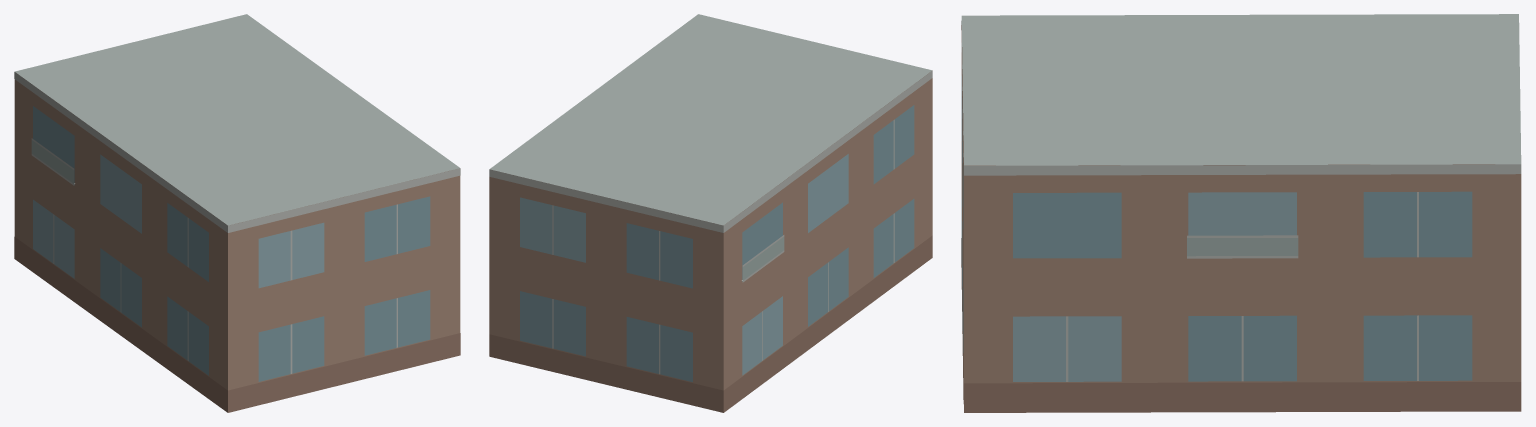
Rendered from survey-upis-32686051.glb.
3 views of the same model, side by side, from view 1: azimuth 30°, elevation 25°; view 2: azimuth 150°, elevation 25°; view 3: azimuth 270°, elevation 25° (orthographic). The views are drawn at different scales.
Visible parts, largest first — view 1: survey-upis-32686051.tmp; view 2: survey-upis-32686051.tmp; view 3: survey-upis-32686051.tmp.
Boxes of the visible parts, left/top/right/bottom form: survey-upis-32686051.tmp: left=14, top=14, right=460, bottom=412; survey-upis-32686051.tmp: left=489, top=14, right=932, bottom=412; survey-upis-32686051.tmp: left=961, top=14, right=1521, bottom=412.
Bounding box in the file's own units: 8.07 × 6.1 × 12.53.
